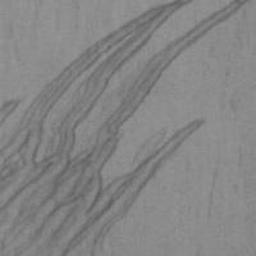Water spot: (0, 0, 252, 256), (0, 96, 22, 127)
